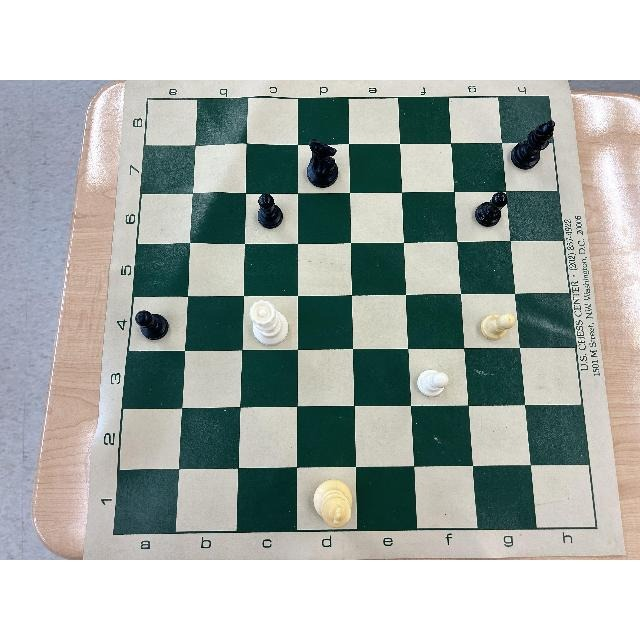black-bishop: (507, 120, 555, 170)
black-knight: (305, 139, 343, 189)
black-pawn: (474, 192, 508, 227), (254, 194, 284, 230), (135, 309, 169, 340)
white-king: (312, 479, 353, 529)
white-pawn: (480, 315, 516, 341), (416, 371, 449, 397)
white-queen: (248, 300, 290, 346)
